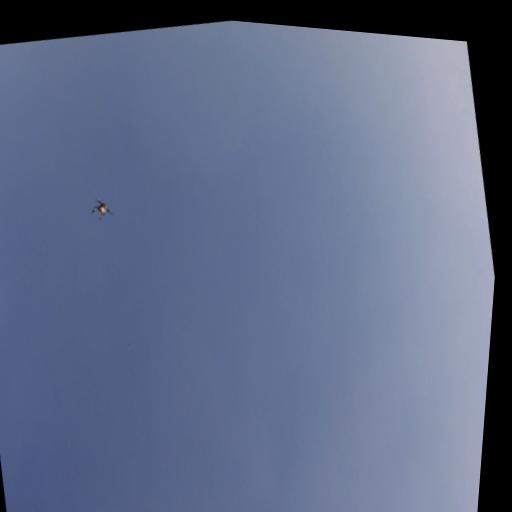drones: (84, 188, 119, 228)
